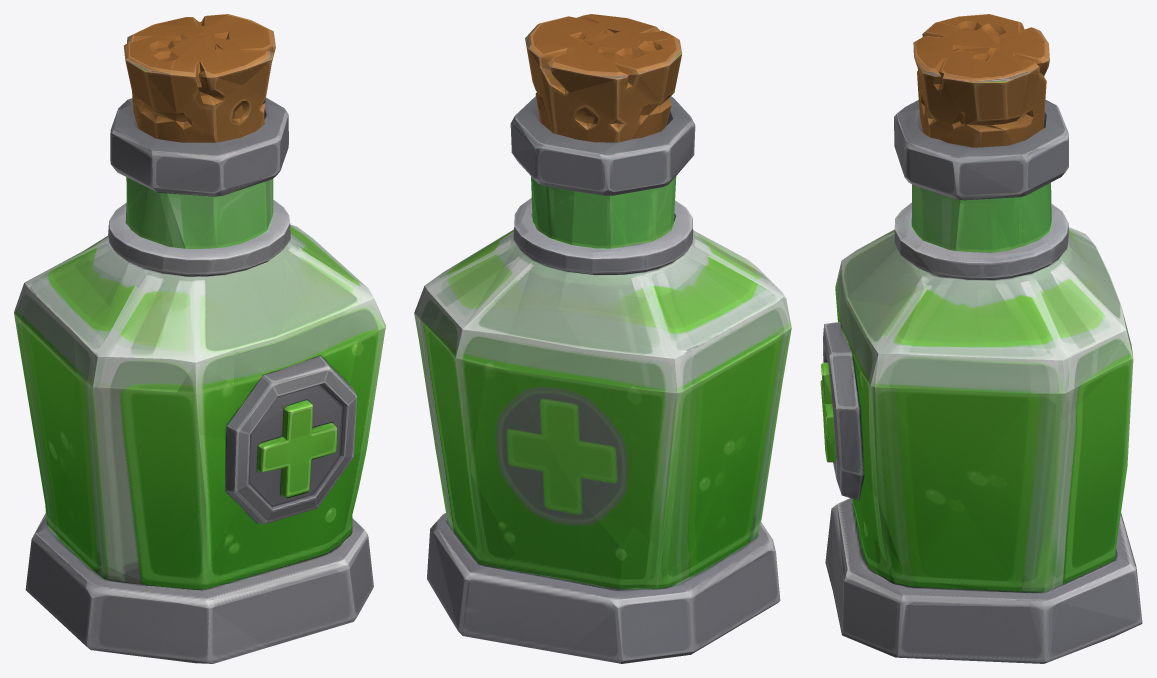
Rendered from green-healing-potion.glb.
3 views of the same model, side by side, from view 1: azimuth 30°, elevation 25°; view 2: azimuth 150°, elevation 25°; view 3: azimuth 270°, elevation 25° (orthographic).
Parts seen in each view (by area): view 1: Mesh_0; view 2: Mesh_0; view 3: Mesh_0.
Boxes of the visible parts, x1,y1,x2,y2 form: Mesh_0: (14,14,385,663); Mesh_0: (414,14,791,663); Mesh_0: (820,14,1142,663).
Bounding box in the file's own units: 1.06 × 1.9 × 1.01.
1 material, 1 textured.
